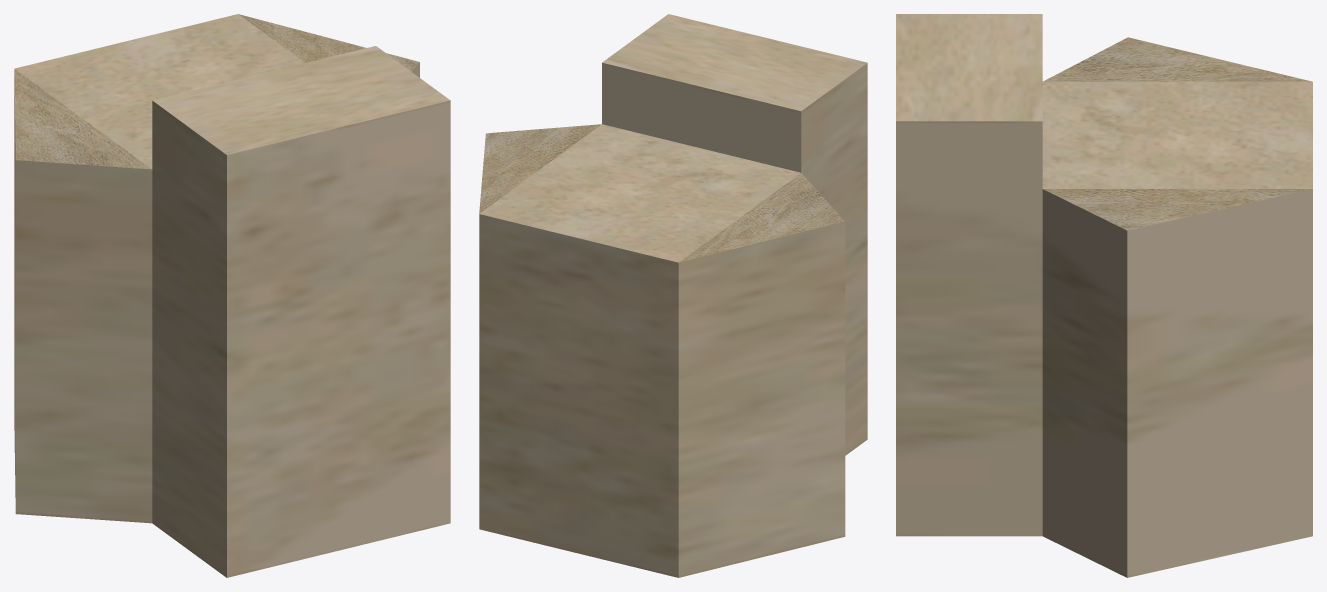
The model's file is thm_nboo_thed_imprv_seawall_intersection_s02_l1.fbx.
The picture shows the model from 3 angles, left to right: view 1: azimuth 30°, elevation 25°; view 2: azimuth 150°, elevation 25°; view 3: azimuth 270°, elevation 25°; orthographic projection. The views are drawn at different scales.
Parts seen in each view (by area): view 1: mesh_node; view 2: mesh_node; view 3: mesh_node.
Boxes of the visible parts, bbox=[...] form: mesh_node: bbox=[14, 14, 450, 577]; mesh_node: bbox=[479, 14, 867, 577]; mesh_node: bbox=[896, 14, 1312, 577].
Bounding box in the file's own units: 7.33 × 7.34 × 6.68.
